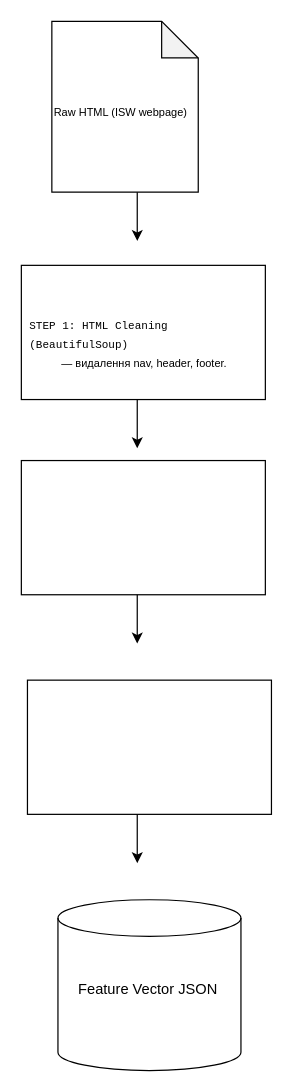
The diagram is 293 pixels wide and 1092 high, and some of its shapes have lost their labels. The box of each missing label's shape, as (x1, y1, x2, y2) in pixels:
STEP 2: Text Preprocessing — Lowercase, Stop words, Tokenization.: (20, 459, 265, 595)
STEP 3: Feature Extraction — TF-IDF, Escalation Score (1-10).: (26, 679, 271, 814)
